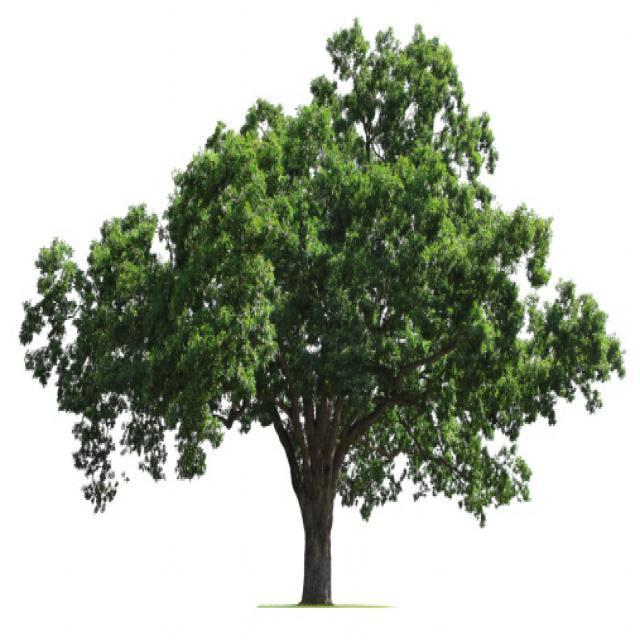tree: (20, 26, 625, 608)
